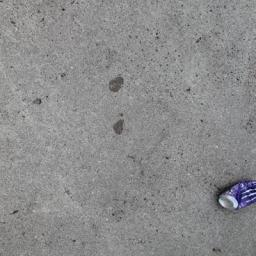FOD: (218, 179, 256, 216)
